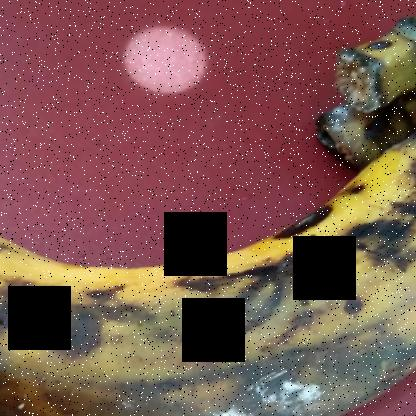rotten: (1, 134, 416, 415)
